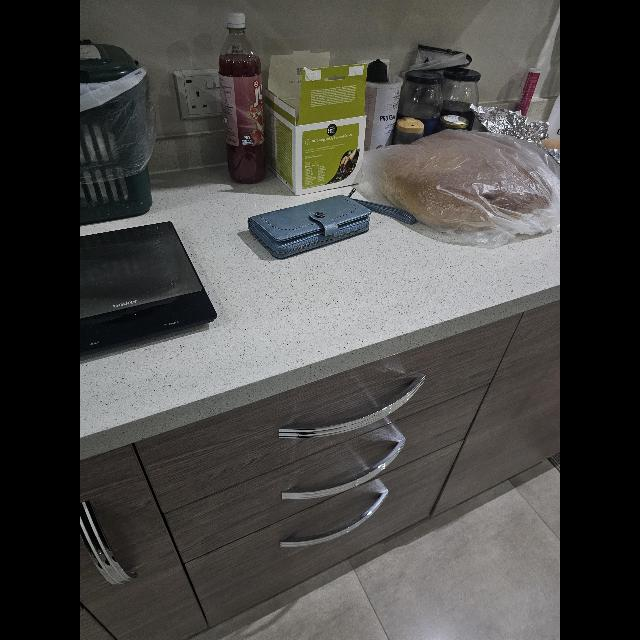Wallet: (248, 195, 370, 258)
